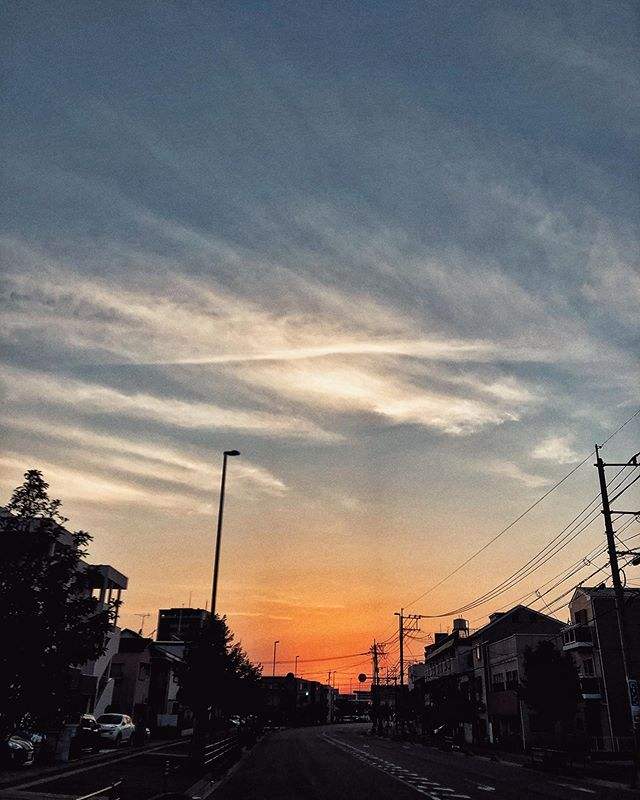building: (1, 486, 98, 739), (426, 600, 565, 744), (575, 570, 640, 788), (159, 602, 216, 737), (106, 628, 160, 746)
sky: (1, 1, 633, 548)
street: (222, 716, 595, 800)
